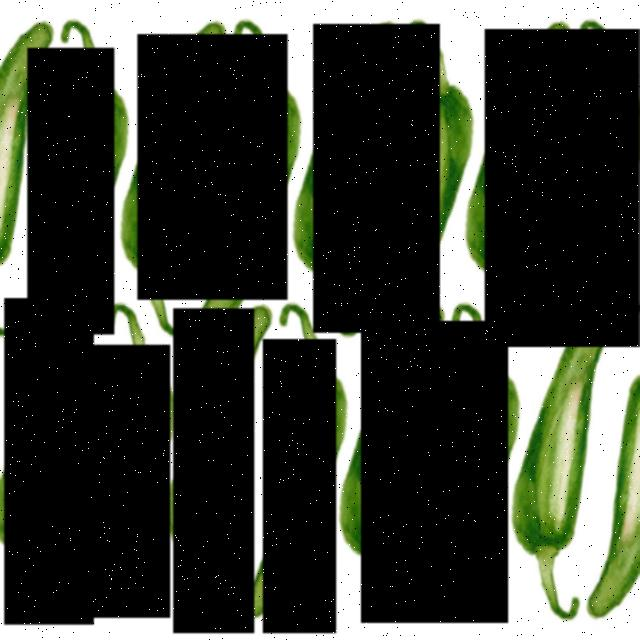Chili_Pepper: (484, 29, 640, 347), (361, 321, 508, 623), (138, 34, 288, 300), (313, 24, 440, 333), (4, 298, 94, 625), (173, 309, 254, 633), (28, 48, 114, 335), (91, 345, 170, 618), (263, 339, 336, 633)
